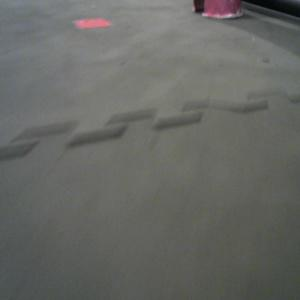right: (193, 1, 245, 20)
